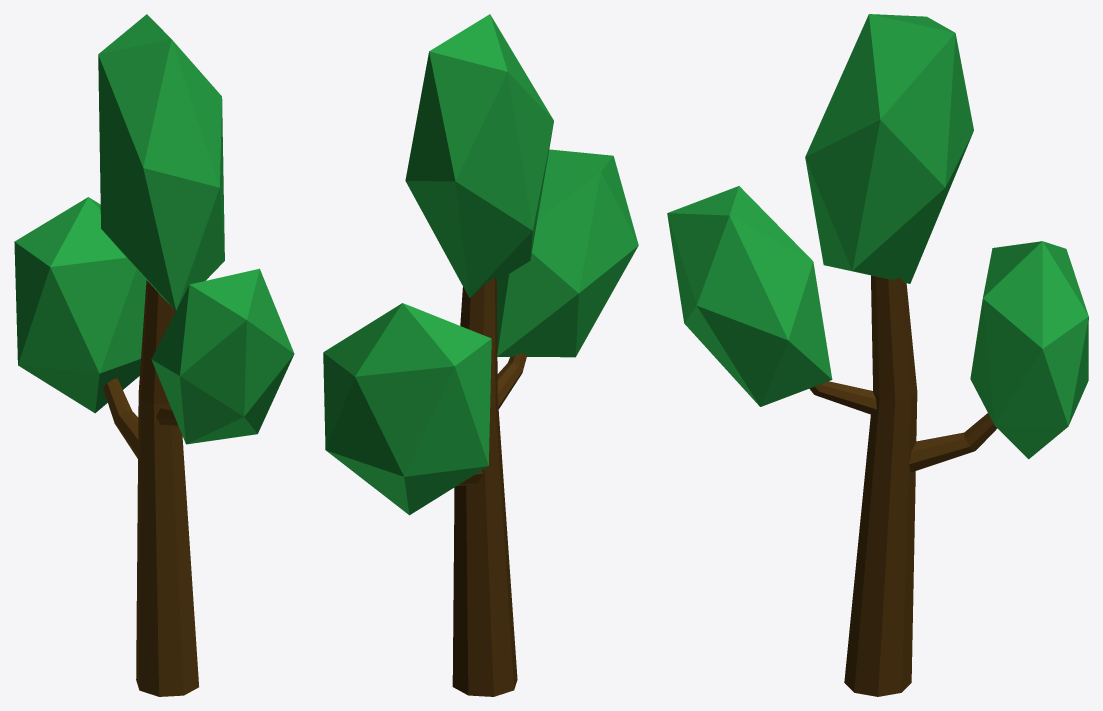
The model's file is tree009.fbx.
3 renders of one model, left to right at view 1: azimuth 30°, elevation 25°; view 2: azimuth 150°, elevation 25°; view 3: azimuth 270°, elevation 25°, orthographic. The views are drawn at different scales.
Parts seen in each view (by area): view 1: Icosphere.007; view 2: Icosphere.007; view 3: Icosphere.007.
Boxes of the visible parts, x1,y1,x2,y2 form: Icosphere.007: [14, 14, 294, 696]; Icosphere.007: [323, 14, 638, 696]; Icosphere.007: [667, 14, 1088, 696].
Size of the model in its own units: 546 by 2191 by 1252.
